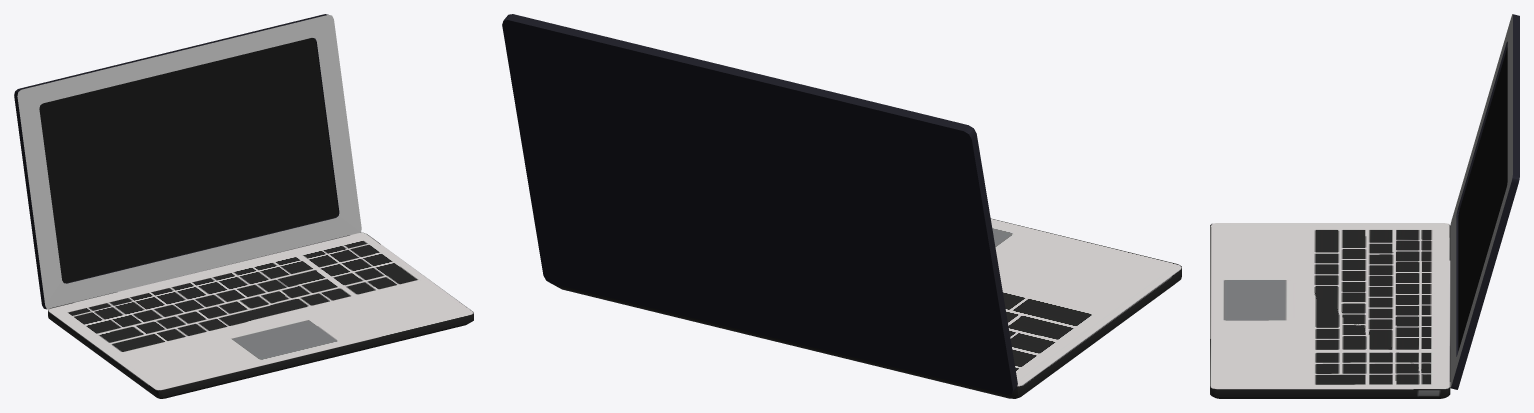
File: laptop.fbx
3 renders of one model, left to right at view 1: azimuth 30°, elevation 25°; view 2: azimuth 150°, elevation 25°; view 3: azimuth 270°, elevation 25°, orthographic. The views are drawn at different scales.
Visible parts, largest first — view 1: polySurface2, laptop; view 2: polySurface2, laptop; view 3: laptop, polySurface2.
Boxes of the visible parts, x1,y1,x2,y2 form: polySurface2: [14, 14, 361, 309]; laptop: [48, 232, 473, 398]; polySurface2: [502, 14, 1017, 394]; laptop: [552, 218, 1181, 398]; laptop: [1210, 223, 1450, 398]; polySurface2: [1450, 14, 1519, 389].
Bounding box in the file's own units: 53.38 × 33.34 × 42.04.
Materials: 4 (1 with a texture image).
